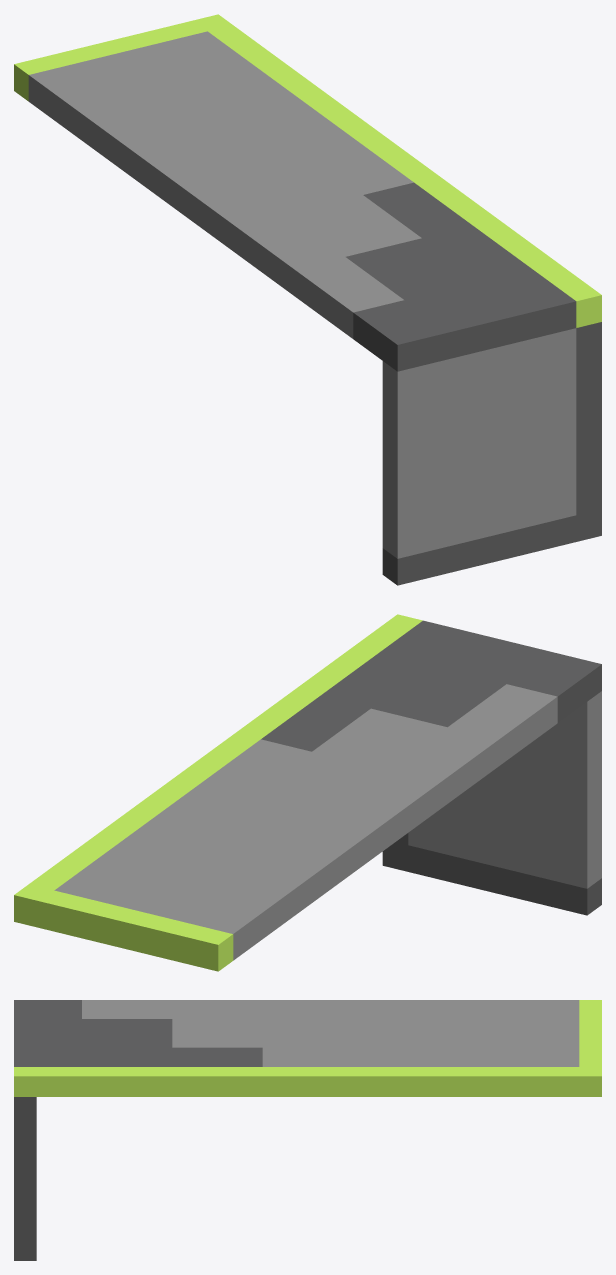
Rendered from Computer Desk Individual.obj.
3 views of the same model, one above another, from view 1: azimuth 30°, elevation 25°; view 2: azimuth 150°, elevation 25°; view 3: azimuth 270°, elevation 25° (orthographic). The views are drawn at different scales.
Size of the model in its own units: 8 by 9 by 26.
1 material, 1 textured.
